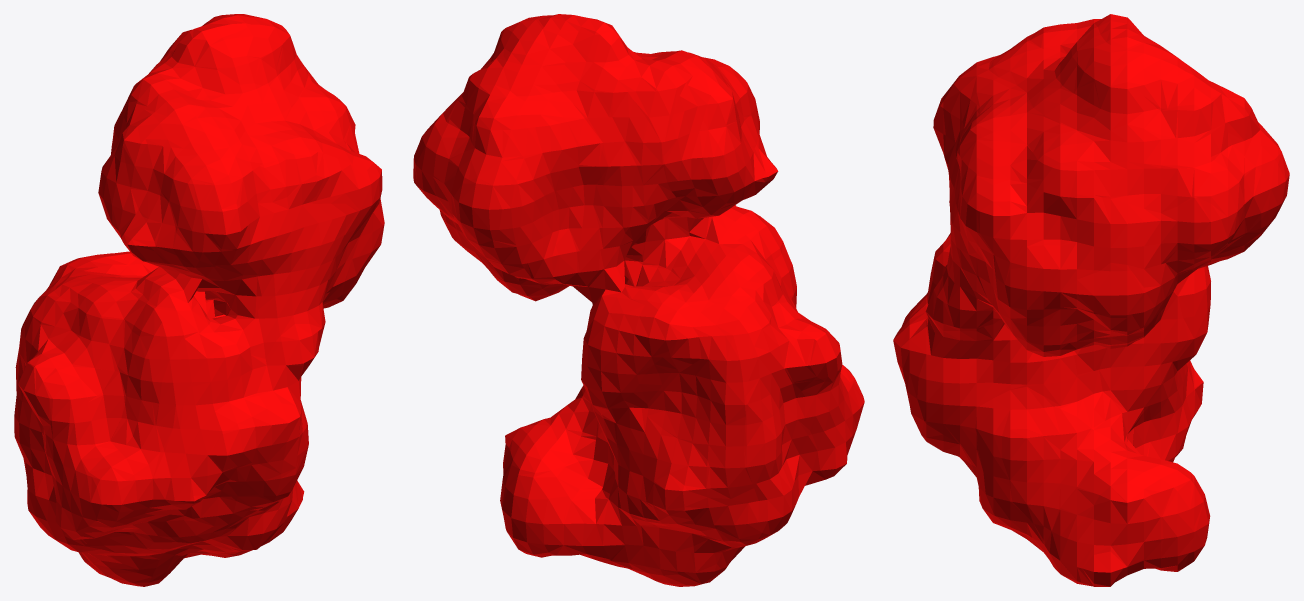
File: rhlE_coarse.dae
3 views of the same model, side by side, from view 1: azimuth 30°, elevation 25°; view 2: azimuth 150°, elevation 25°; view 3: azimuth 270°, elevation 25° (orthographic). The views are drawn at different scales.
Visible parts, largest first — view 1: rhlE; view 2: rhlE; view 3: rhlE.
Part boxes in pixels (left/top/right/bottom): rhlE: left=14, top=14, right=384, bottom=586; rhlE: left=413, top=14, right=864, bottom=586; rhlE: left=893, top=14, right=1289, bottom=586.
Size of the model in its own units: 61.39 by 88.24 by 55.94.
